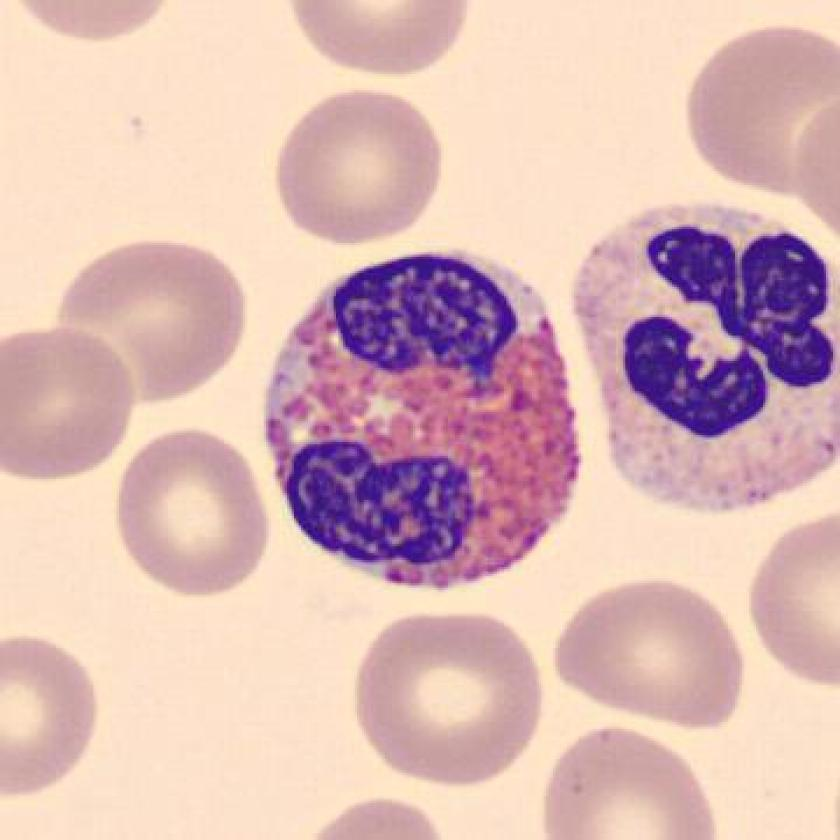eosinophil: (253, 242, 594, 612)
